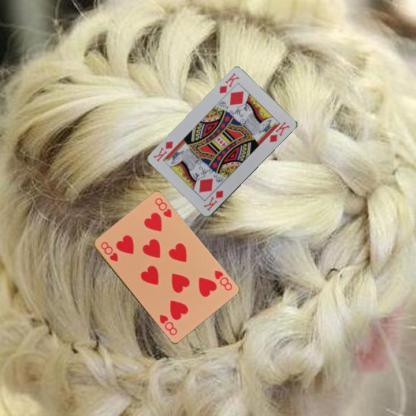8h: (210, 267, 233, 292), (98, 238, 120, 263)
Kd: (216, 70, 240, 96), (200, 188, 225, 212)
